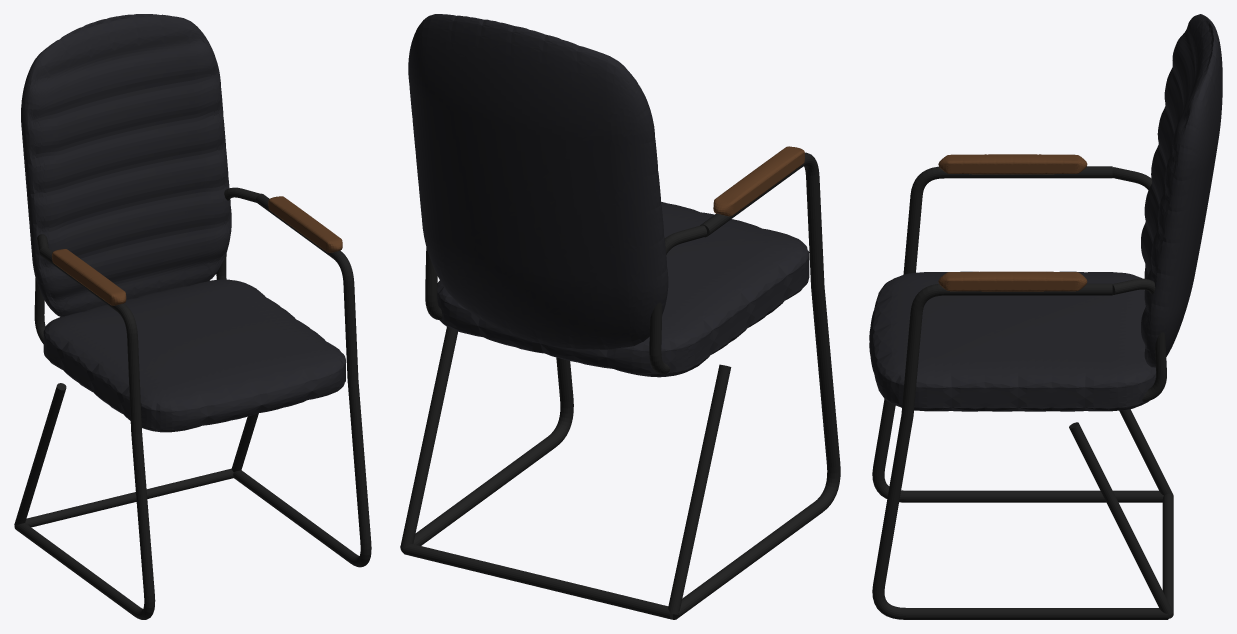
File: linea.glb
The picture shows the model from 3 angles, left to right: view 1: azimuth 30°, elevation 25°; view 2: azimuth 150°, elevation 25°; view 3: azimuth 270°, elevation 25°; orthographic projection. The views are drawn at different scales.
Visible parts, largest first — view 1: back, seat, side-1, side1, floor_bar, armpad1, armpad-1, brace-1, backpost-1, brace1, backpost1; view 2: back, seat, side-1, side1, floor_bar, brace-1, brace1, armpad-1, backpost-1, backpost1; view 3: seat, back, side1, side-1, armpad-1, armpad1, brace1, backpost1, floor_bar, brace-1.
Part boxes in pixels (bbox=[...]): back: bbox=[21, 14, 231, 316]; seat: bbox=[43, 279, 345, 432]; side-1: bbox=[14, 246, 155, 619]; side1: bbox=[233, 193, 371, 567]; floor_bar: bbox=[25, 468, 233, 527]; armpad1: bbox=[268, 196, 342, 252]; armpad-1: bbox=[52, 249, 126, 305]; brace-1: bbox=[14, 383, 66, 524]; backpost-1: bbox=[34, 234, 48, 343]; brace1: bbox=[231, 413, 258, 471]; backpost1: bbox=[216, 187, 260, 279]; back: bbox=[408, 14, 668, 349]; seat: bbox=[437, 201, 809, 377]; side-1: bbox=[672, 152, 840, 619]; side1: bbox=[400, 357, 573, 552]; floor_bar: bbox=[403, 544, 672, 619]; brace-1: bbox=[668, 364, 731, 614]; brace1: bbox=[400, 327, 457, 548]; armpad-1: bbox=[713, 146, 804, 216]; backpost-1: bbox=[649, 225, 706, 374]; backpost1: bbox=[425, 247, 442, 319]; seat: bbox=[869, 271, 1155, 411]; back: bbox=[1141, 14, 1222, 367]; side1: bbox=[872, 283, 1168, 619]; side-1: bbox=[872, 166, 1163, 502]; armpad-1: bbox=[938, 154, 1087, 174]; armpad1: bbox=[938, 271, 1087, 291]; brace1: bbox=[1069, 422, 1172, 615]; backpost1: bbox=[1112, 278, 1166, 401]; floor_bar: bbox=[1162, 493, 1173, 618]; brace-1: bbox=[1119, 409, 1172, 495].
Size of the model in its own units: 0.5351 by 1.04 by 0.6374.
